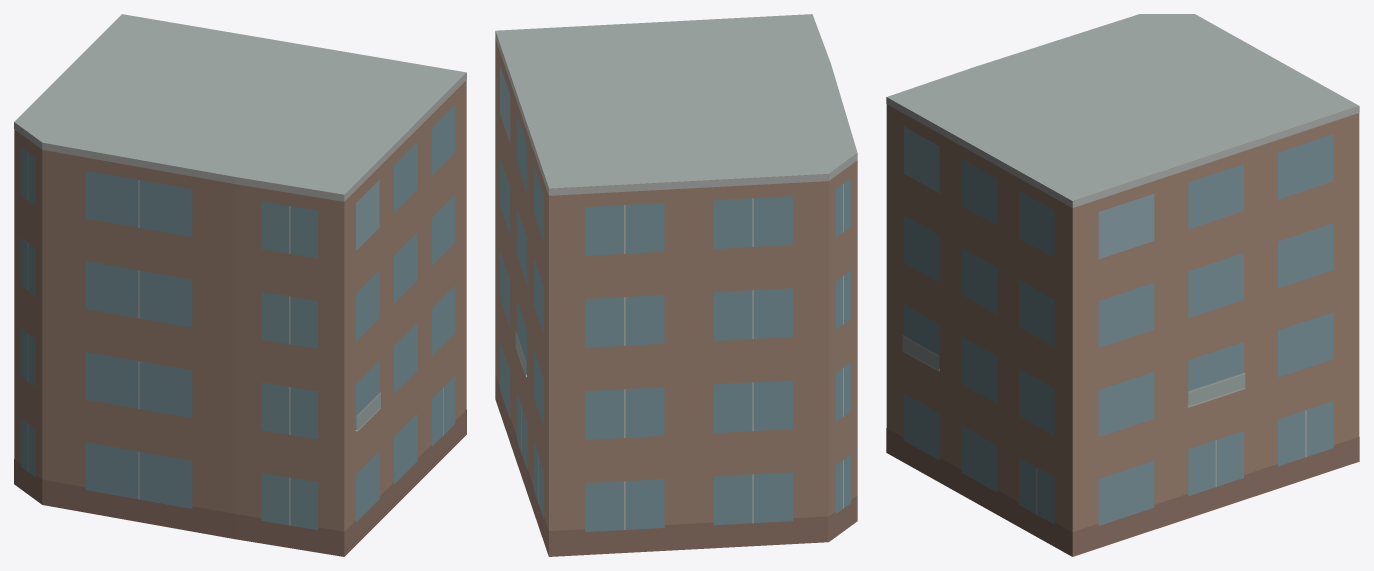
Rendered from survey-upis-32859102.glb.
The picture shows the model from 3 angles, left to right: view 1: azimuth 30°, elevation 25°; view 2: azimuth 150°, elevation 25°; view 3: azimuth 270°, elevation 25°; orthographic projection. The views are drawn at different scales.
Visible parts, largest first — view 1: survey-upis-32859102.tmp; view 2: survey-upis-32859102.tmp; view 3: survey-upis-32859102.tmp.
Part boxes in pixels (x1,y1,x2,y2): survey-upis-32859102.tmp: [14, 14, 466, 556]; survey-upis-32859102.tmp: [495, 14, 857, 556]; survey-upis-32859102.tmp: [886, 14, 1359, 556].
Bounding box in the file's own units: 14 × 12.4 × 14.94.
